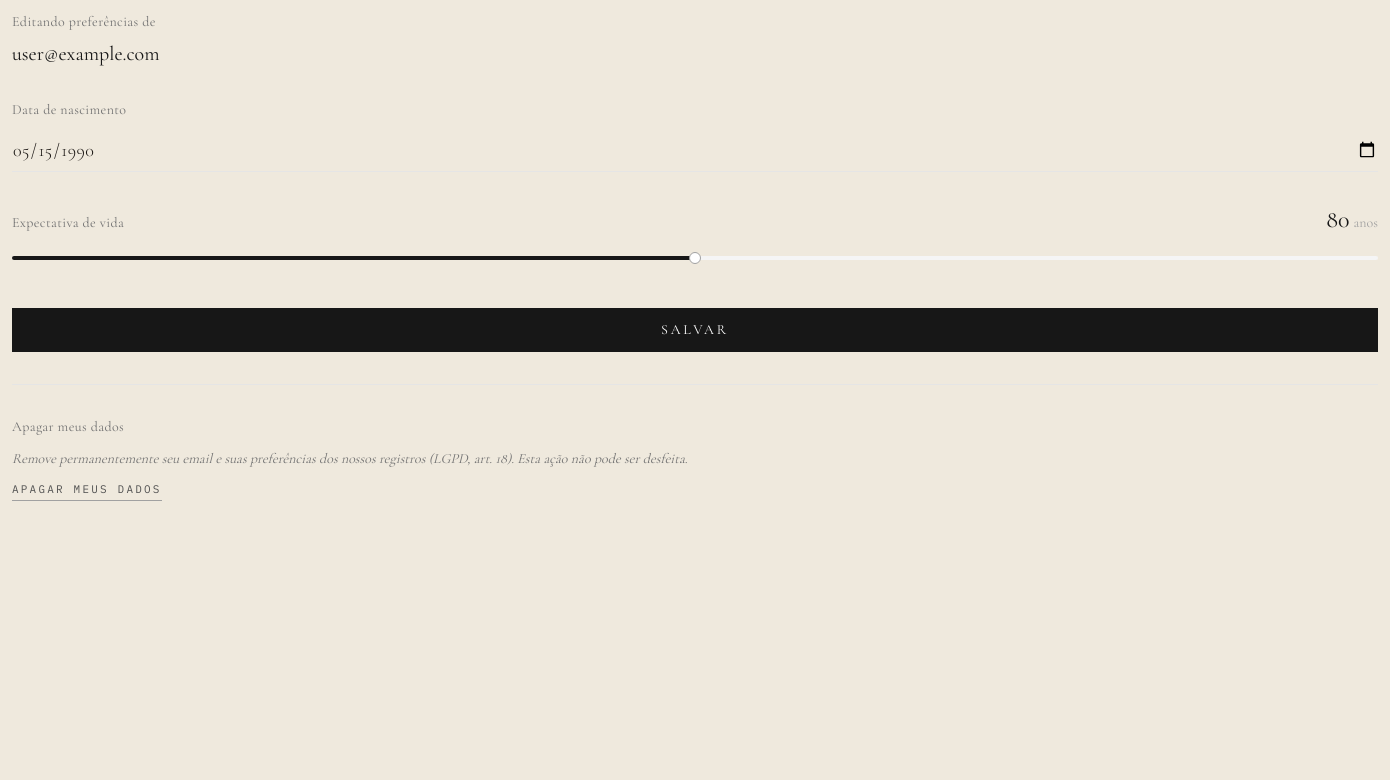
Scenario: EditForm (Feature E.16) › on 400 invalid_input renders the invalid-data message
Click the button "Salvar": (695, 330) left=12, top=308, right=1378, bottom=352
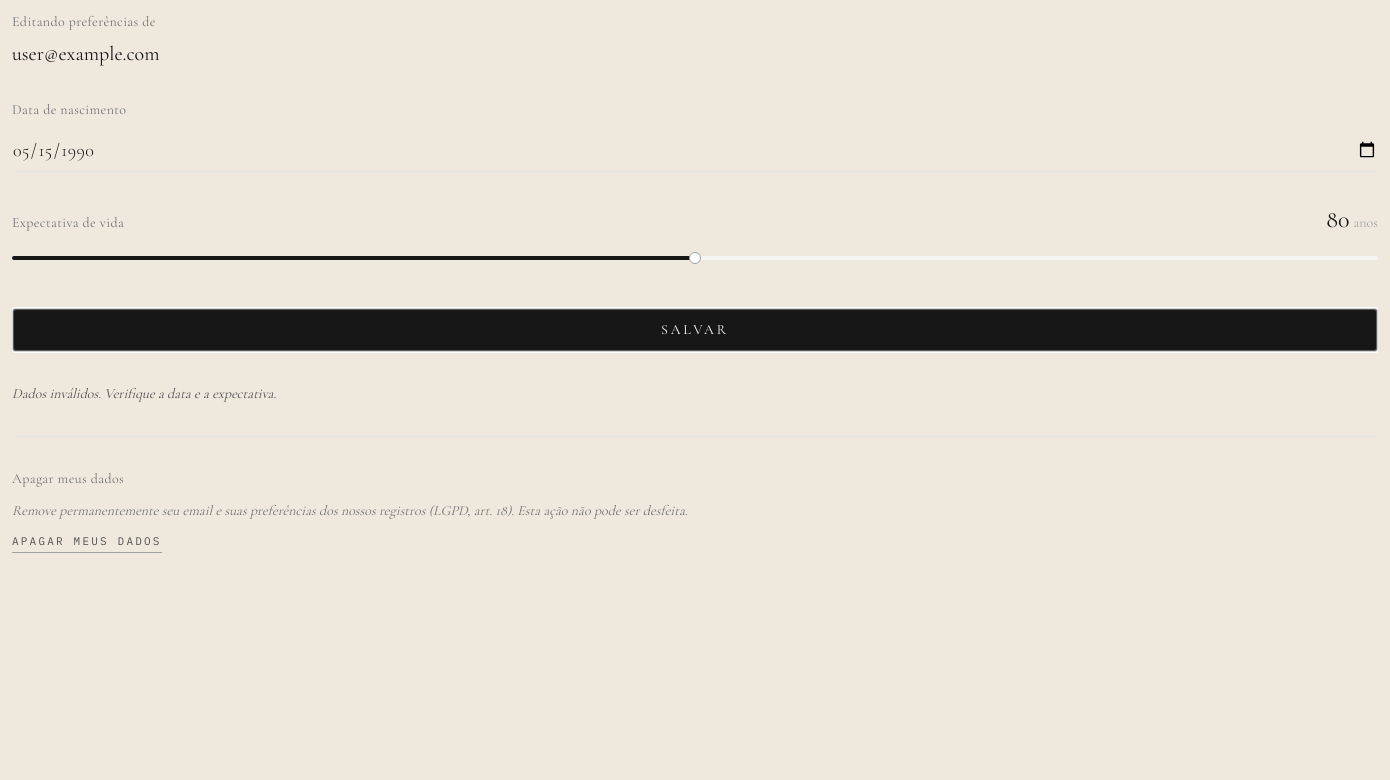
Check: the text "Dados inválidos. Verifique a data e a expectativa." is shown, box left=12, top=385, right=276, bottom=402
